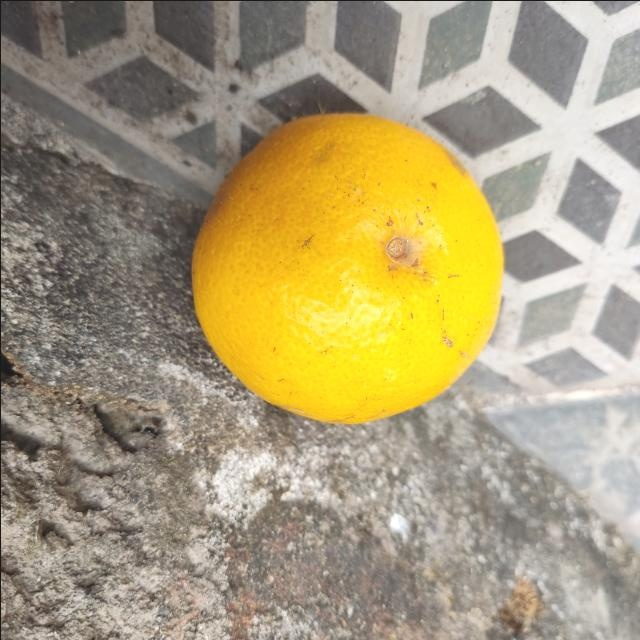agrume: (186, 110, 504, 426)
